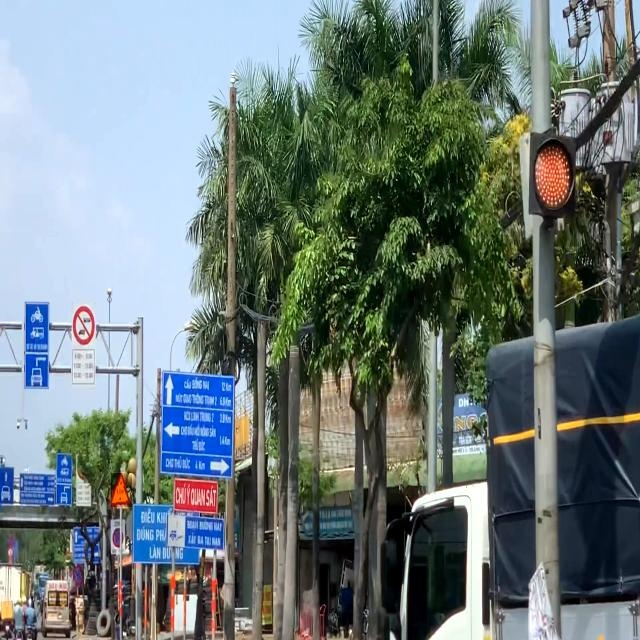bien_chi_dan: (111, 473, 132, 507), (73, 567, 82, 587)
